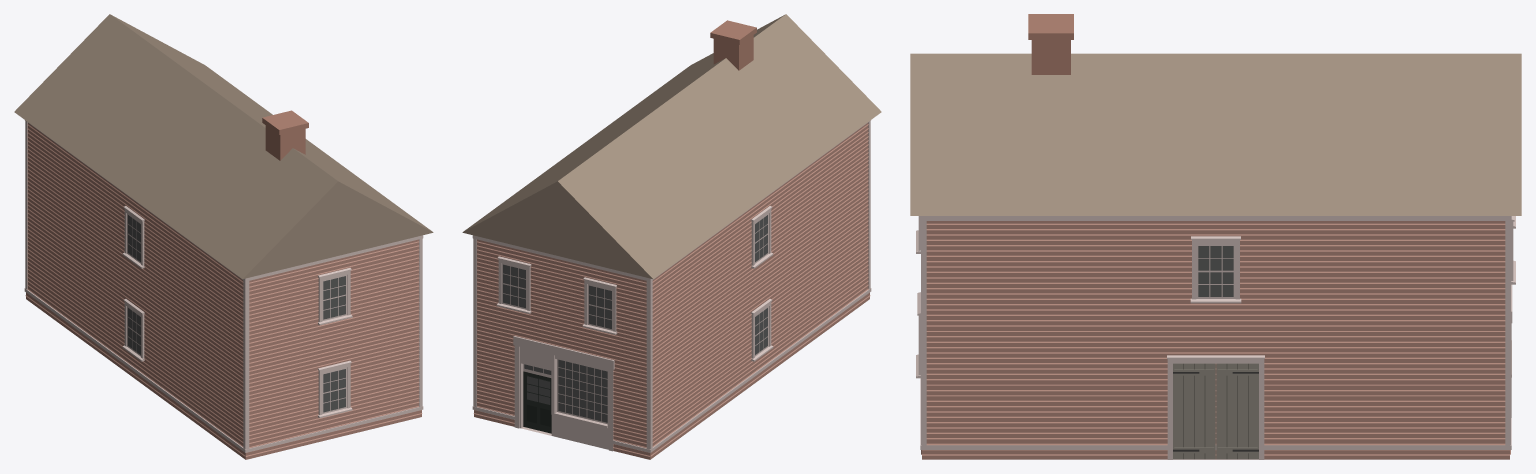
File: recon_1835_core_c3_013__inferred_1835.glb
3 renders of one model, left to right at view 1: azimuth 30°, elevation 25°; view 2: azimuth 150°, elevation 25°; view 3: azimuth 270°, elevation 25°, orthographic. The views are drawn at different scales.
Visible parts, largest first — view 1: recon_1835_core_c3_013__inferred_1835; view 2: recon_1835_core_c3_013__inferred_1835; view 3: recon_1835_core_c3_013__inferred_1835.
Boxes of the visible parts, x1=… form: recon_1835_core_c3_013__inferred_1835: x1=14, y1=14, x2=433, y2=459; recon_1835_core_c3_013__inferred_1835: x1=462, y1=14, x2=881, y2=459; recon_1835_core_c3_013__inferred_1835: x1=910, y1=14, x2=1521, y2=459.
Size of the model in its own units: 6.34 by 8.96 by 13.12.
